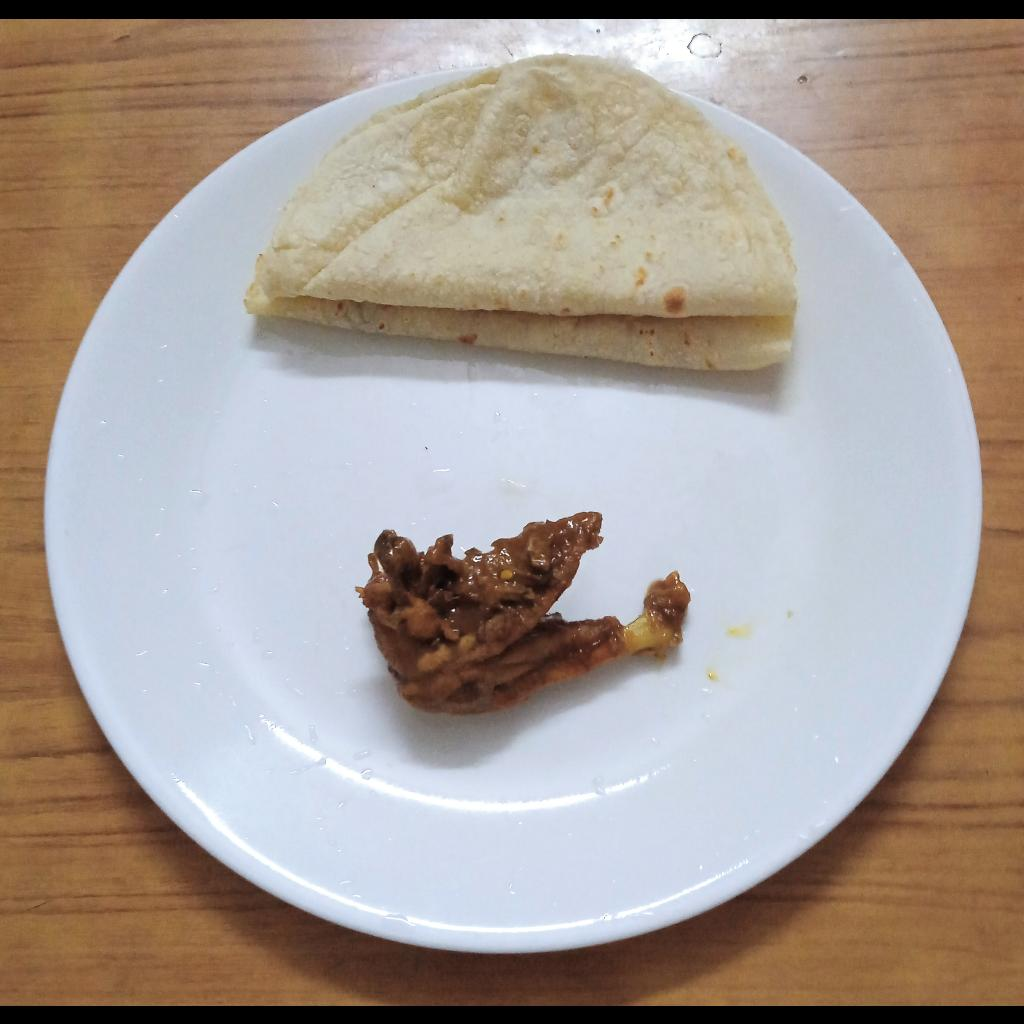chicken: (362, 509, 689, 714)
ruti: (241, 54, 799, 373)
